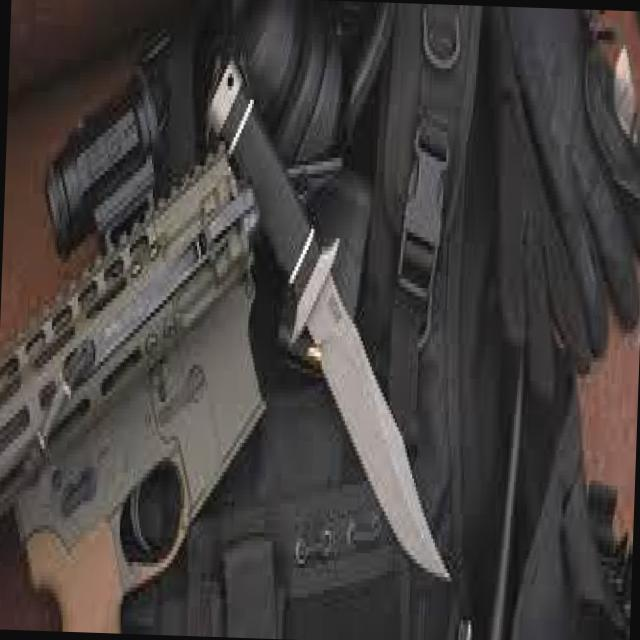Knife: (180, 30, 482, 584)
